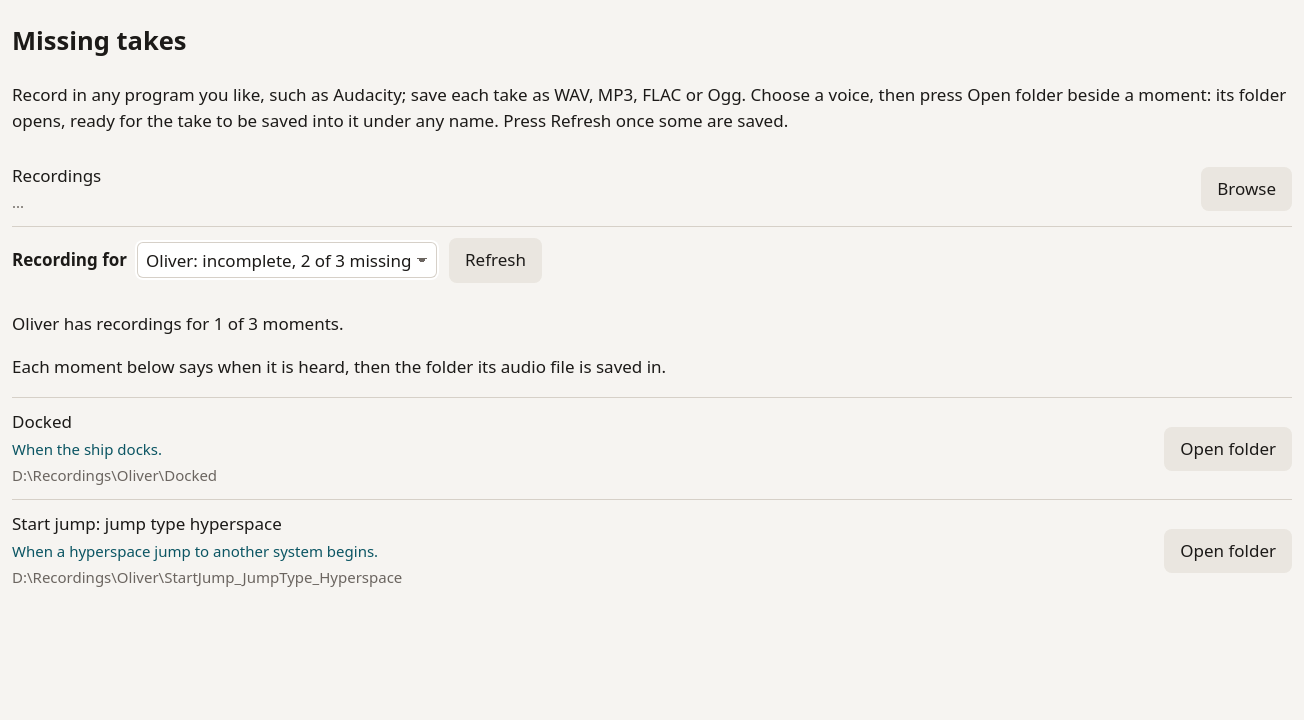
Test: the missing takes pane › draws a folder that could not be opened as a refusal
Click the button with aria-label "Open the folder for Docked" at (1228, 449), box left=1164, top=427, right=1292, bottom=471
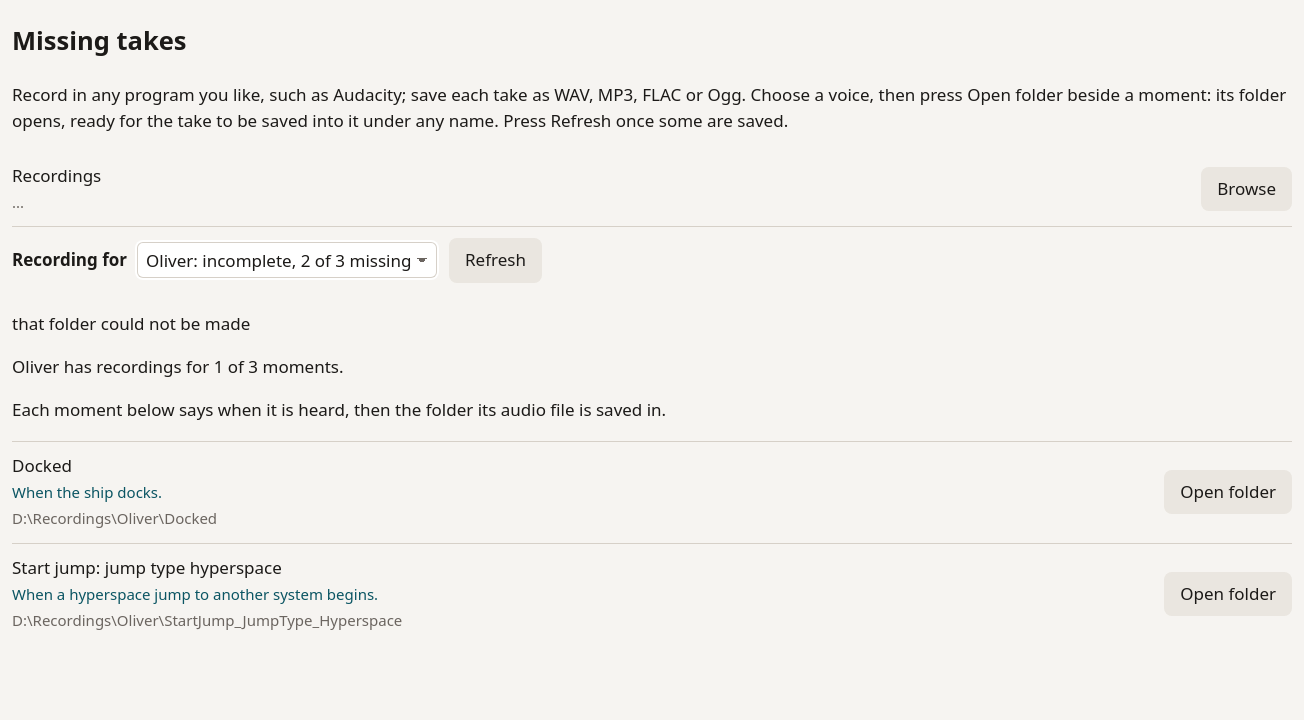
Now the message shows "could not be made", box left=12, top=312, right=250, bottom=334
